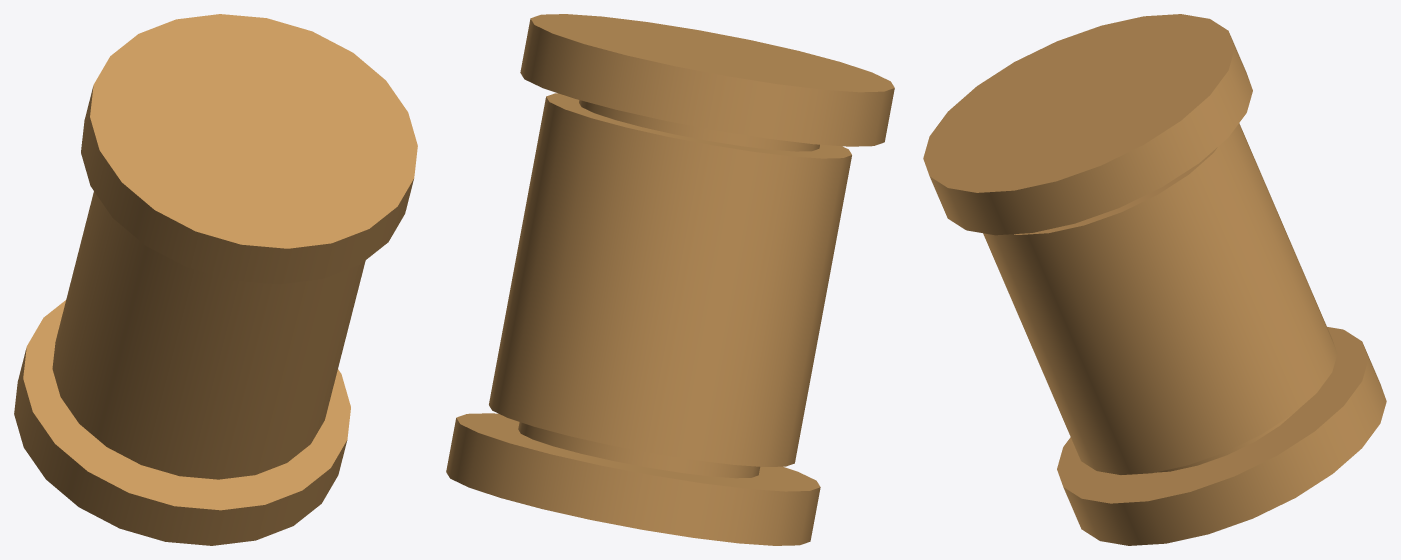
Rendered from SM_Menu_ThreadSpool.fbx.
The picture shows the model from 3 angles, left to right: view 1: azimuth 30°, elevation 25°; view 2: azimuth 150°, elevation 25°; view 3: azimuth 270°, elevation 25°; orthographic projection. The views are drawn at different scales.
Visible parts, largest first — view 1: SM_Menu_ThreadSpool; view 2: SM_Menu_ThreadSpool; view 3: SM_Menu_ThreadSpool.
Boxes of the visible parts, box(x1,y1,x2,y2) form: SM_Menu_ThreadSpool: box(14, 14, 417, 545); SM_Menu_ThreadSpool: box(446, 14, 894, 545); SM_Menu_ThreadSpool: box(923, 14, 1386, 545).
Size of the model in its own units: 19.8 by 27.72 by 30.56.
